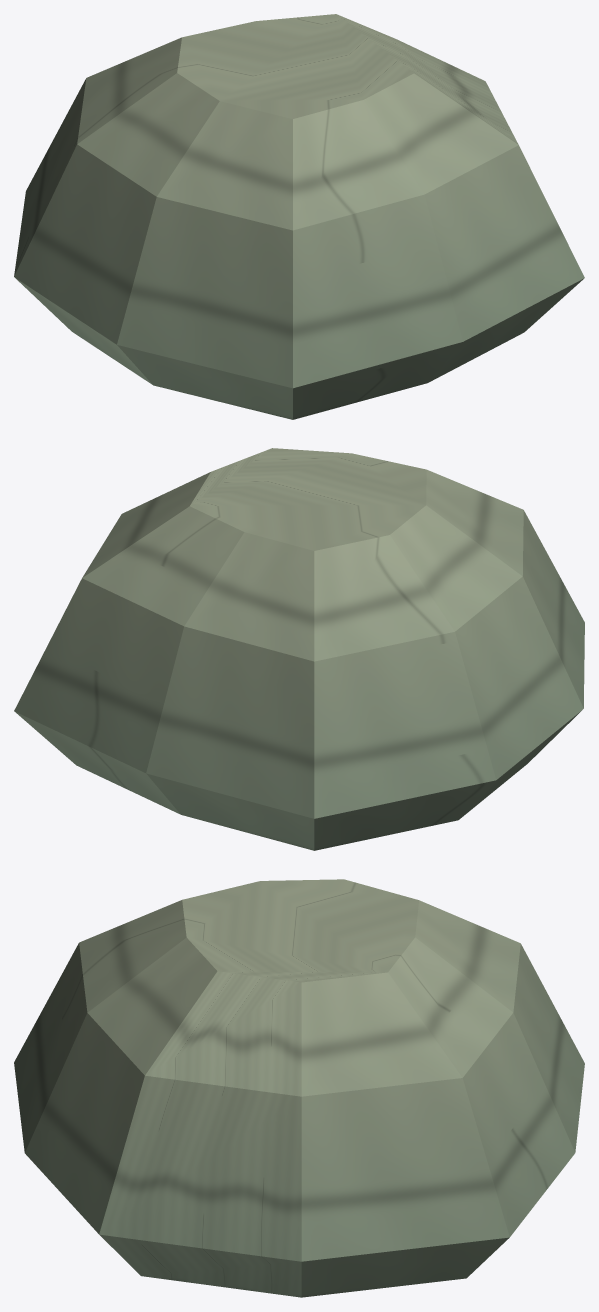
The model's file is quarry_stone.glb.
The picture shows the model from 3 angles, top to bottom: view 1: azimuth 30°, elevation 25°; view 2: azimuth 150°, elevation 25°; view 3: azimuth 270°, elevation 25°; orthographic projection. The views are drawn at different scales.
Parts seen in each view (by area): view 1: QuarryStone; view 2: QuarryStone; view 3: QuarryStone.
Boxes of the visible parts, bbox=[...] form: QuarryStone: bbox=[14, 14, 584, 419]; QuarryStone: bbox=[14, 448, 584, 850]; QuarryStone: bbox=[14, 879, 584, 1297].
Bounding box in the file's own units: 1.02 × 0.51 × 0.9907.
1 material, 1 textured.
